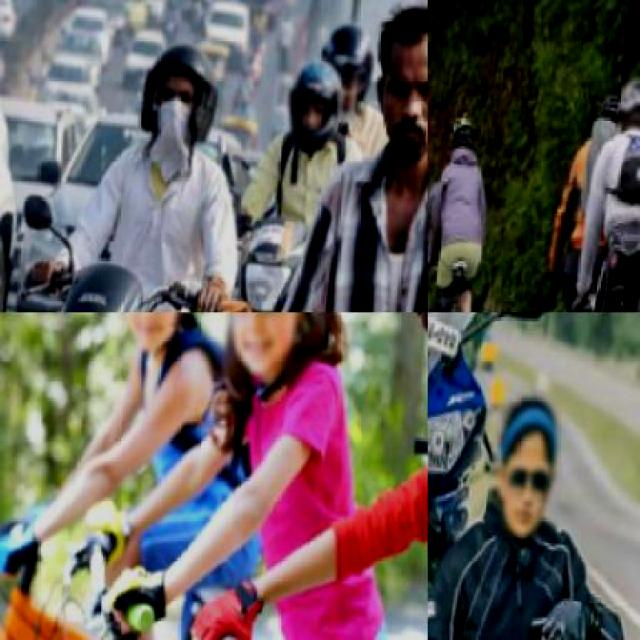With Helmet: (195, 312, 338, 390), (136, 28, 224, 150), (314, 10, 380, 119), (282, 45, 347, 147), (442, 101, 486, 161), (616, 66, 638, 131)
Without Helmet: (482, 376, 575, 542)
